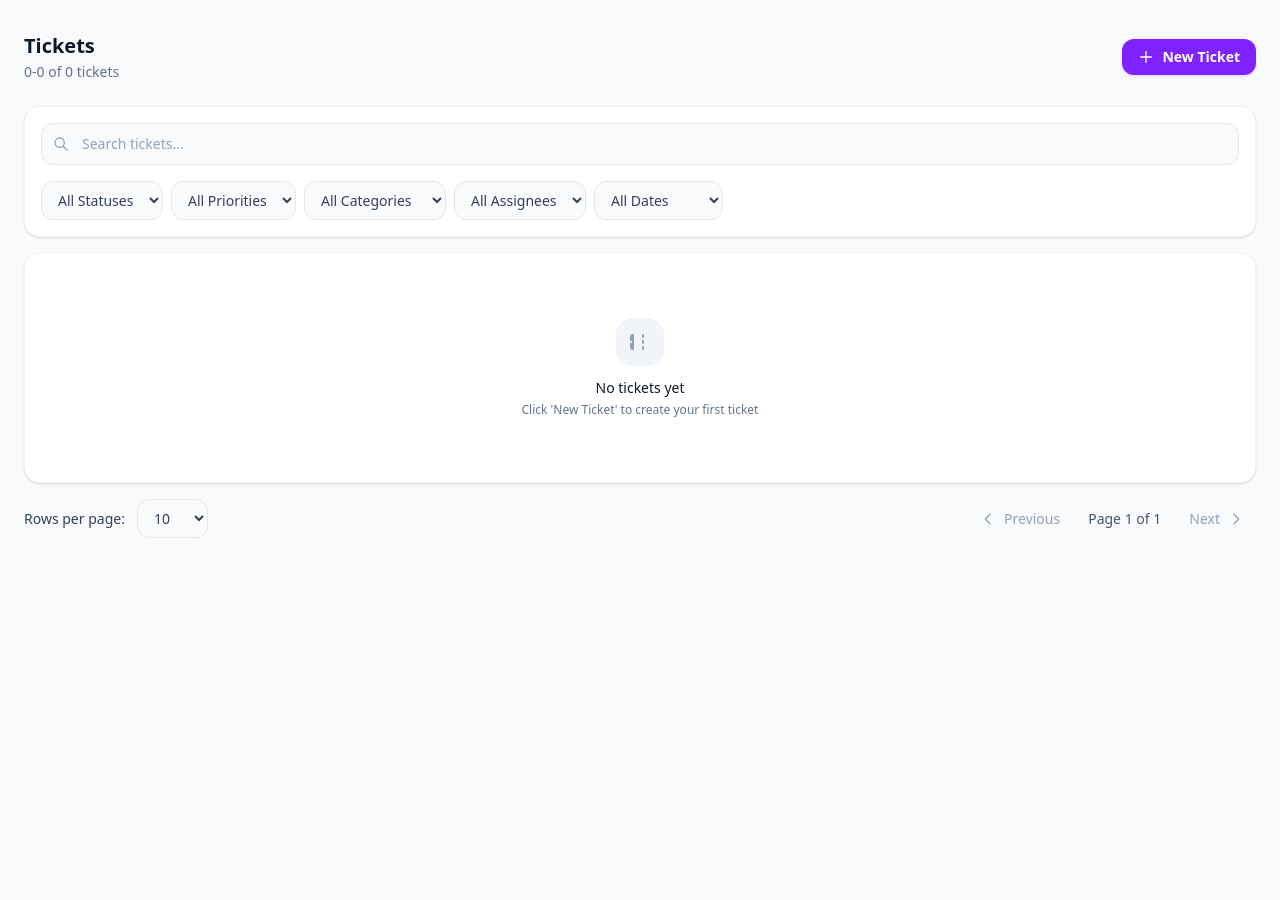
it: TicketsPage › CreateTicketModal › opens modal on New Ticket button click
The width and height of the screenshot is (1280, 900).
Check: the text "No tickets yet" is shown, box [596,378,684,398]
Click the button "New Ticket".
click(1189, 57)  # box [1122,39,1256,75]
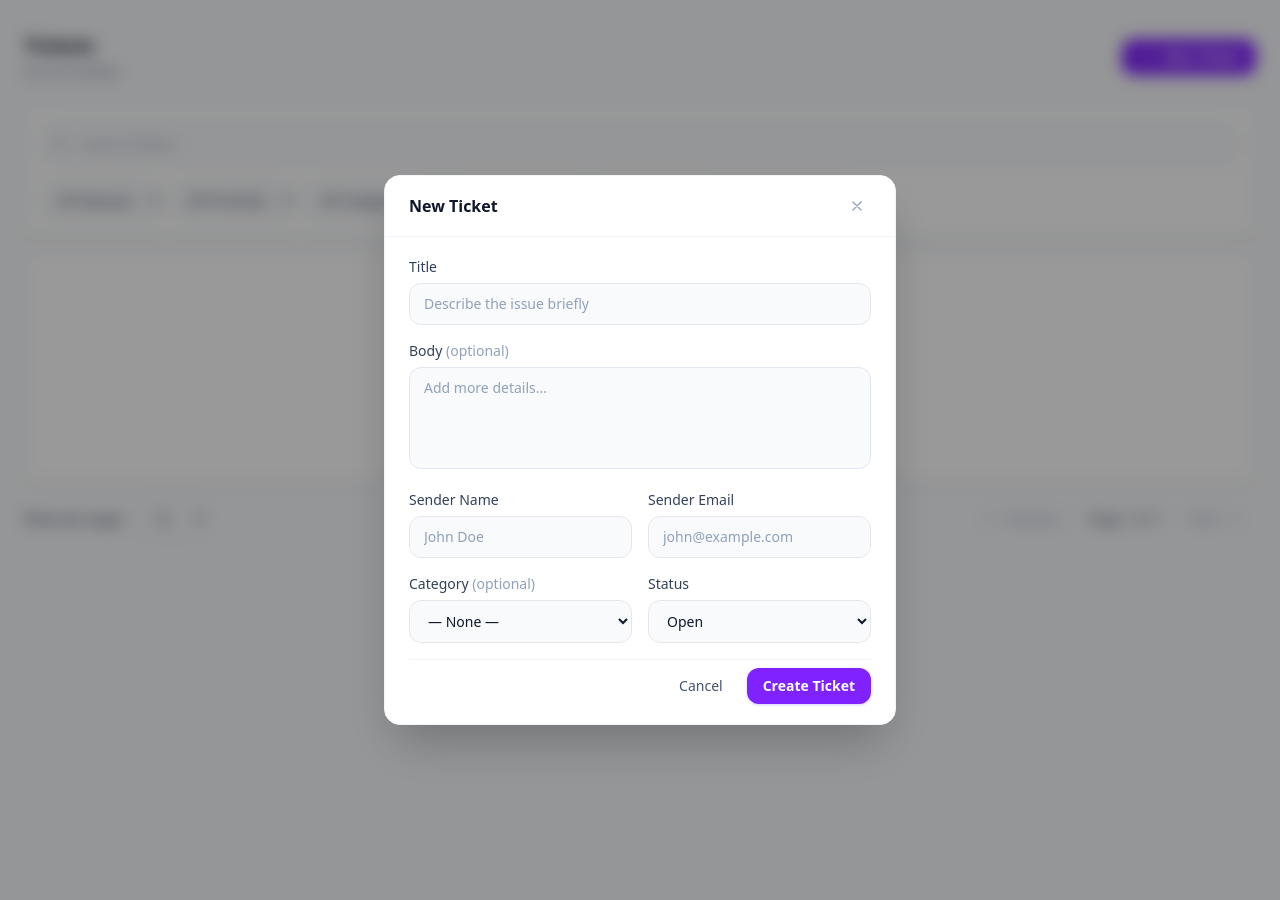
Check: the heading "New Ticket" is shown, box [409,194,498,218]
